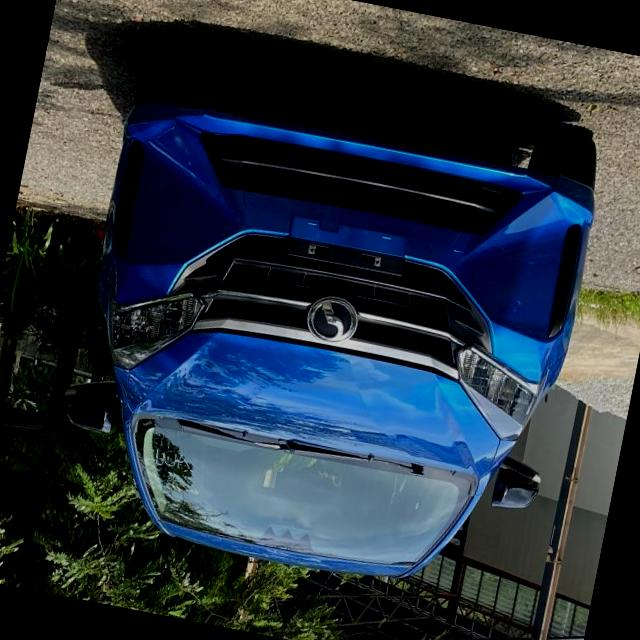PeroduaMyvi: (42, 41, 612, 612)
